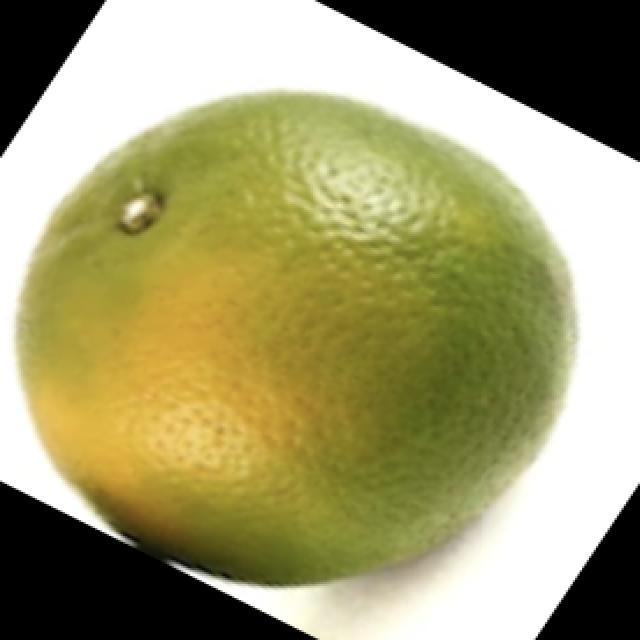Orange: (12, 88, 579, 587)
